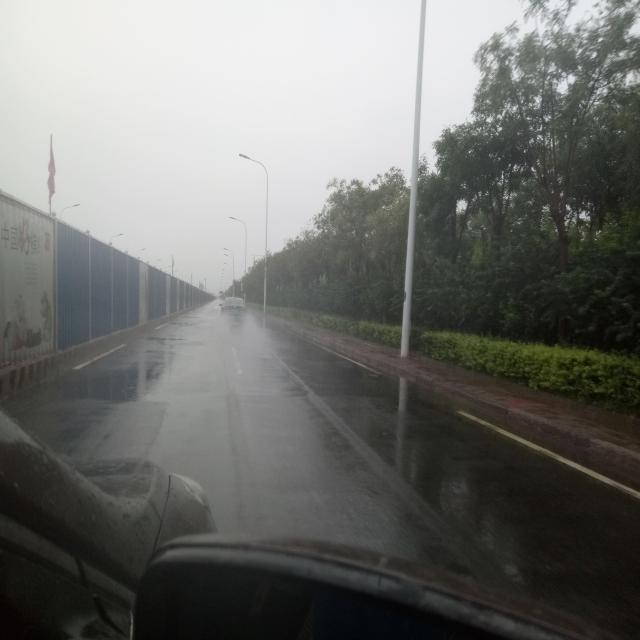car: (1, 406, 626, 640), (218, 295, 248, 326)
